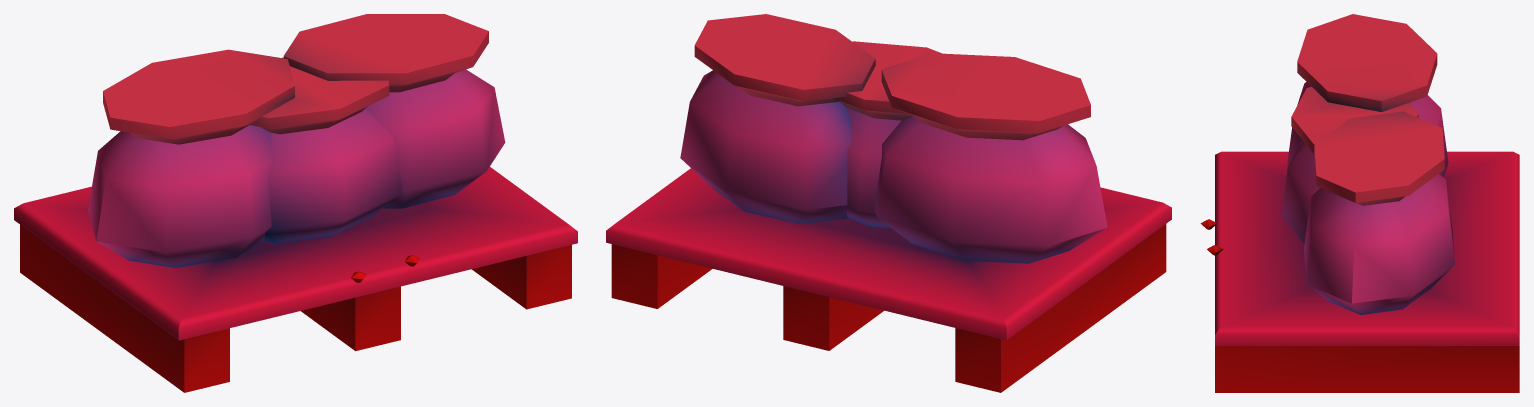
File: CI_Cafe_BeanSacks.glb
3 views of the same model, side by side, from view 1: azimuth 30°, elevation 25°; view 2: azimuth 150°, elevation 25°; view 3: azimuth 270°, elevation 25° (orthographic). The views are drawn at different scales.
Parts seen in each view (by area): view 1: CI_Cafe_BeanSacks; view 2: CI_Cafe_BeanSacks; view 3: CI_Cafe_BeanSacks.
Boxes of the visible parts, x1=… form: CI_Cafe_BeanSacks: x1=14, y1=14, x2=577, y2=392; CI_Cafe_BeanSacks: x1=606, y1=14, x2=1171, y2=392; CI_Cafe_BeanSacks: x1=1200, y1=14, x2=1519, y2=392.
Size of the model in its own units: 0.7186 by 0.37 by 0.524.
